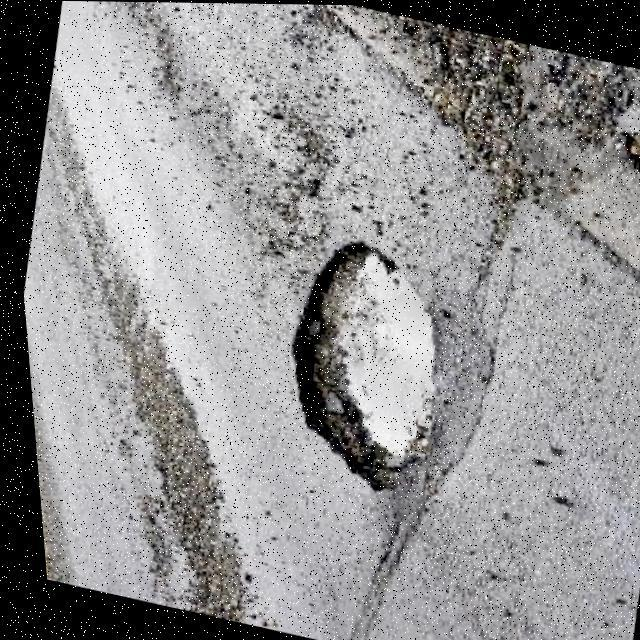pothole: (240, 224, 472, 509)
